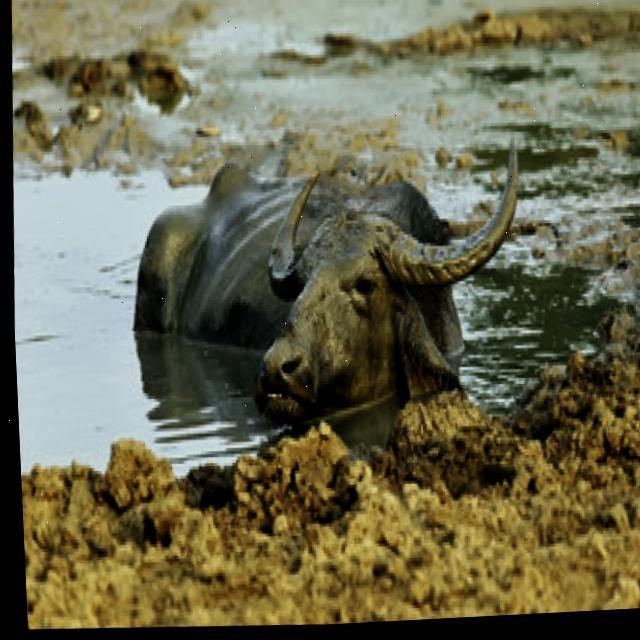Buffalo: (117, 114, 537, 416)
